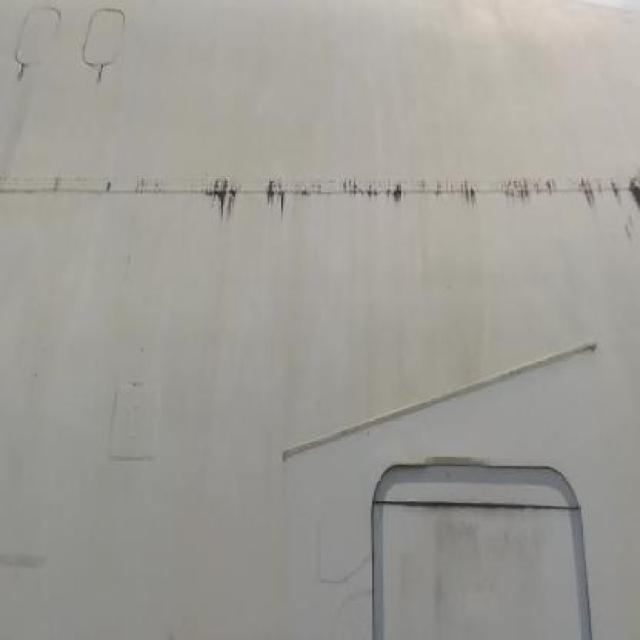Rust: (192, 150, 640, 264), (96, 60, 109, 92), (15, 58, 30, 80)
Scartch: (430, 500, 562, 602), (0, 539, 68, 590)
